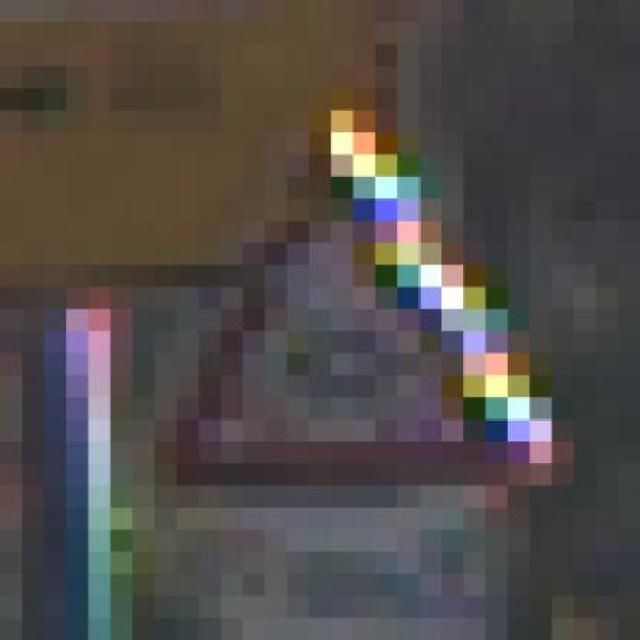CYCLE ROUTE AHEAD WARNING: (88, 88, 574, 530)
